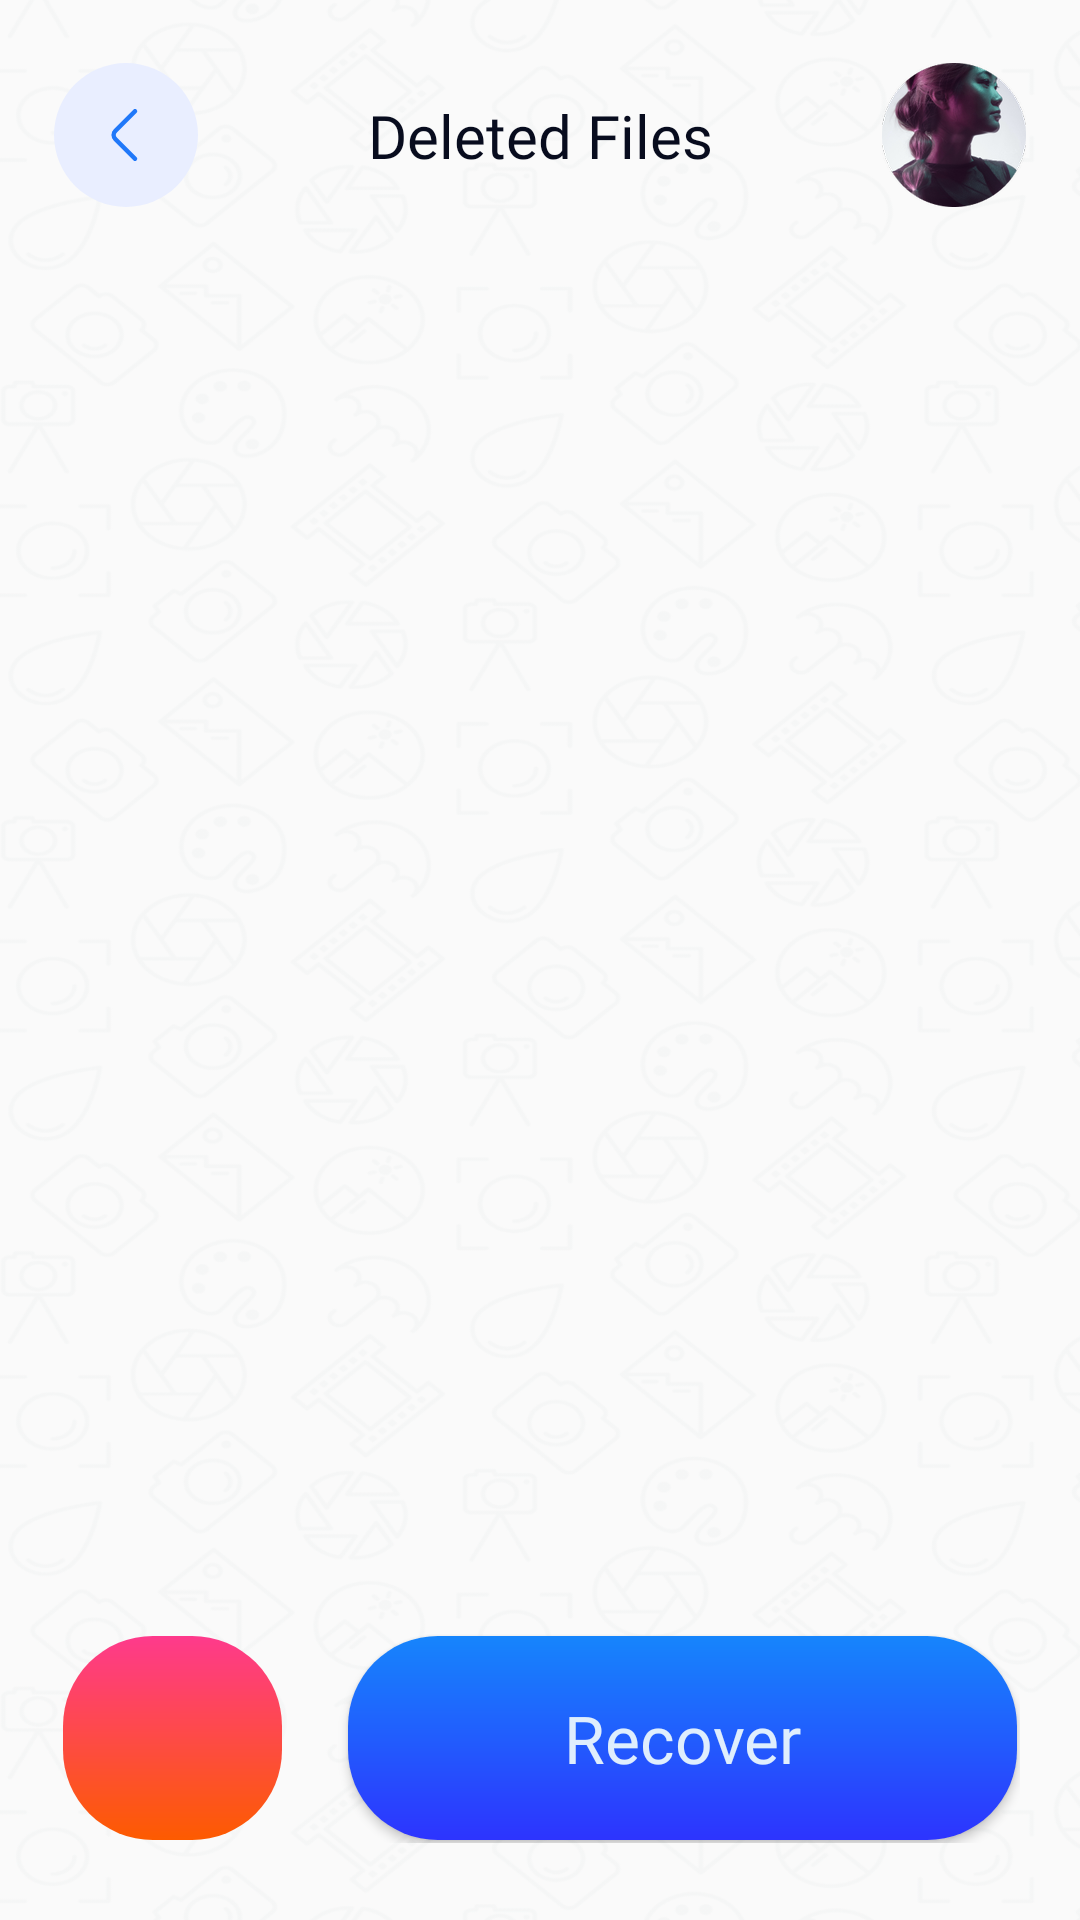

Locate icon controls on the screen. Image size 1080×1920, boxes as (left=x1, top=y1, right=x2, bottom=y2).
back: (left=54, top=63, right=198, bottom=207)
place holder woman: (left=882, top=63, right=1026, bottom=207)
